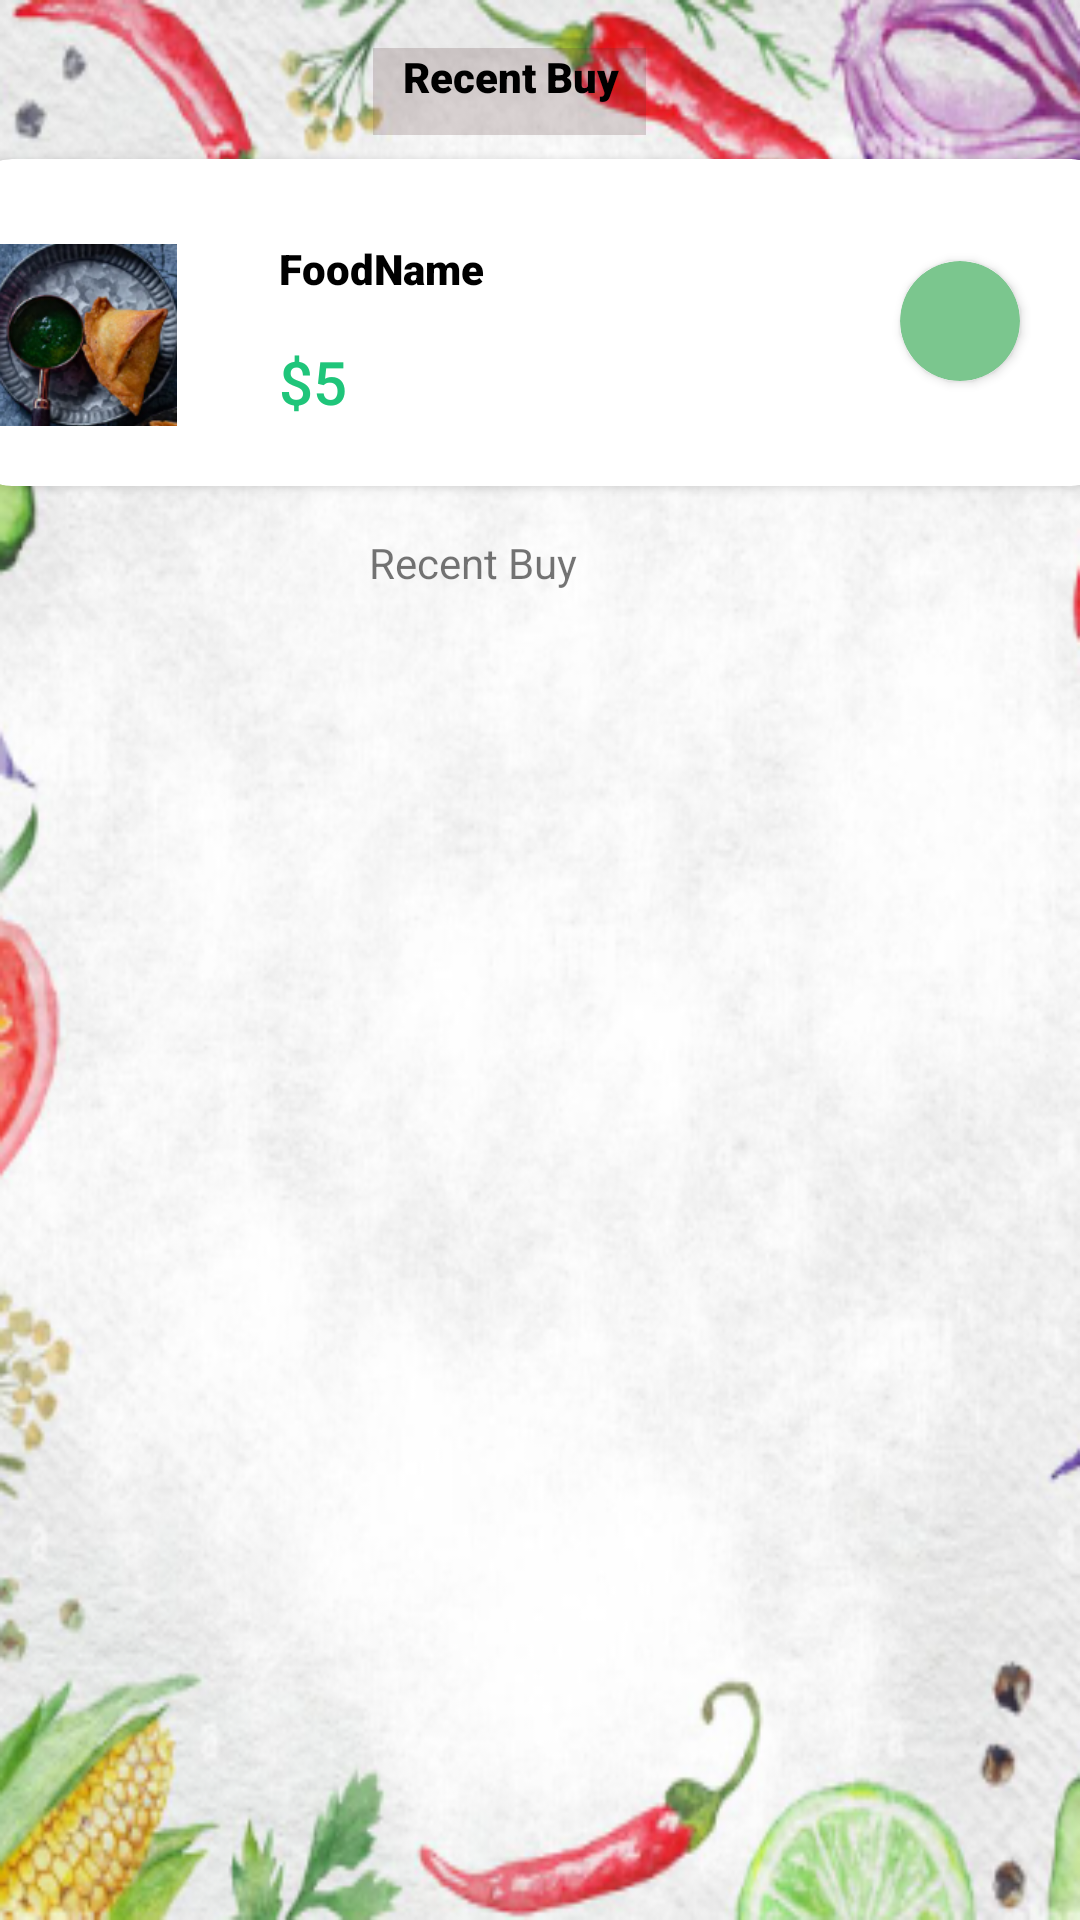

Named icons in this screenshot (1080 x 1920) and their bounding boxes, (x1, y1, x2, y2):
samosa: (0, 244, 177, 426)
